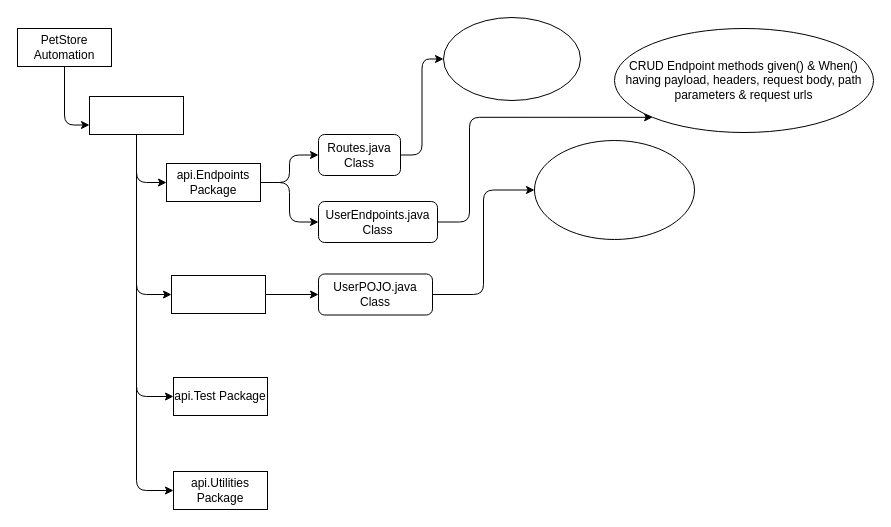
Image size: 891x527. Some labels were removed from this diagram. Here are the shapes that lost their labels. From the top down, the centre of each, then its label:
At point (511, 58): "base_url all base_url endpoints".
At point (136, 115): "src/test/java".
At point (614, 190): "swagger request body for User Module & all setters & getters".
At point (218, 294): "api.Payload Package".
